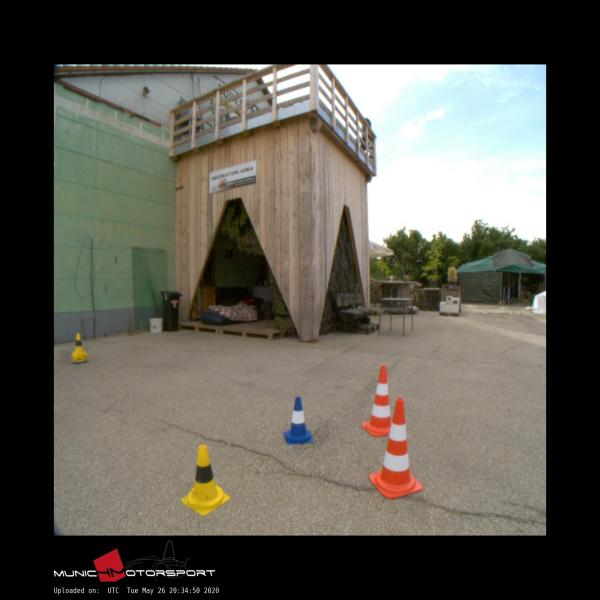blue_cone: (284, 396, 313, 444)
large_orange_cone: (370, 398, 422, 488), (362, 366, 396, 436)
yellow_cone: (181, 444, 229, 516), (72, 334, 85, 354)
